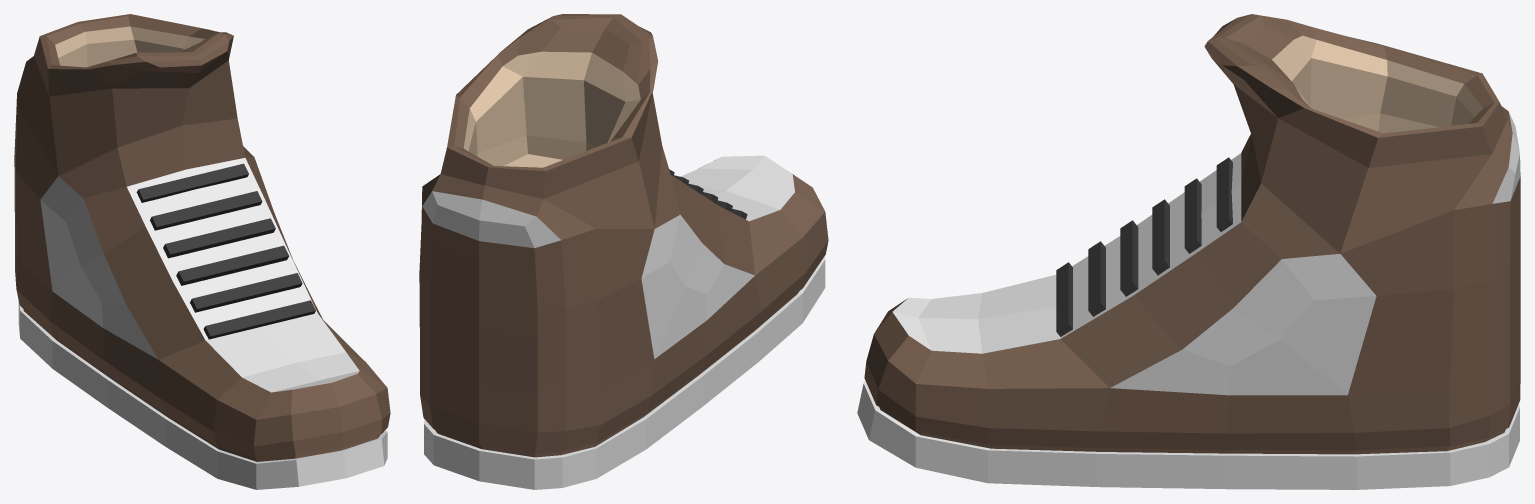
File: Clothes9_C4.fbx
The picture shows the model from 3 angles, left to right: view 1: azimuth 30°, elevation 25°; view 2: azimuth 150°, elevation 25°; view 3: azimuth 270°, elevation 25°; orthographic projection. The views are drawn at different scales.
Parts seen in each view (by area): view 1: Clothes9_C4; view 2: Clothes9_C4; view 3: Clothes9_C4.
Part boxes in pixels (<box>): Clothes9_C4: <box>14,14,390,489</box>; Clothes9_C4: <box>419,14,828,489</box>; Clothes9_C4: <box>857,14,1520,489</box>.
Bounding box in the file's own units: 7.6 × 13.71 × 20.49.
